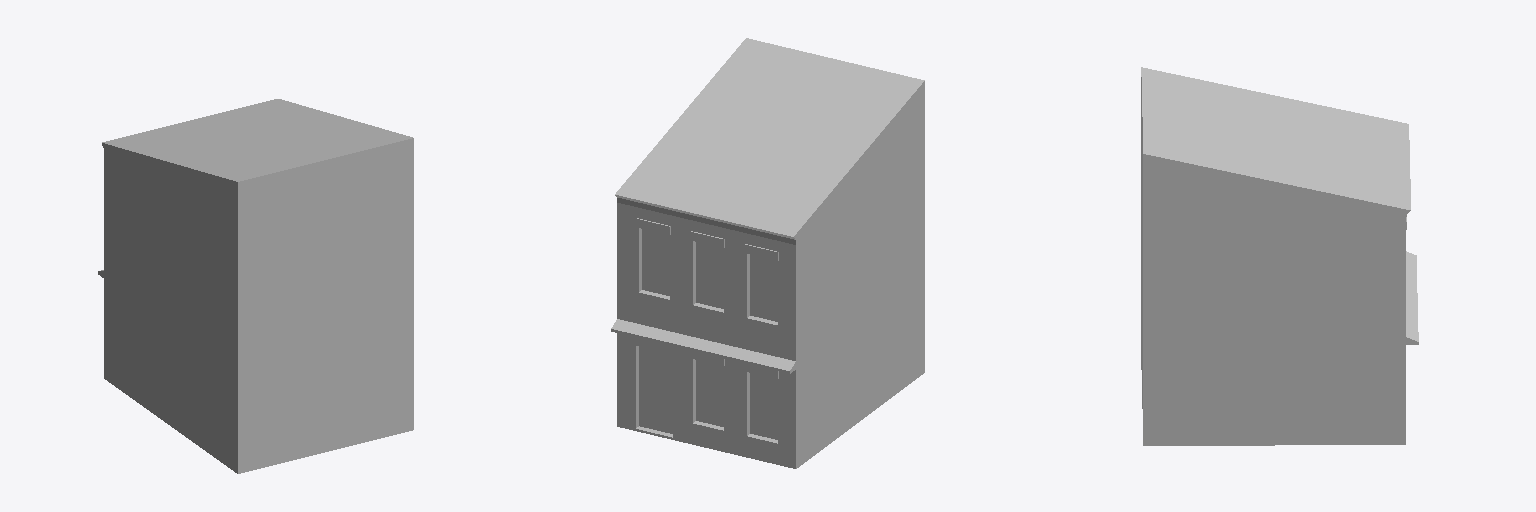
Rendered from house5.obj.
3 renders of one model, left to right at view 1: azimuth 30°, elevation 25°; view 2: azimuth 150°, elevation 25°; view 3: azimuth 270°, elevation 25°, orthographic.
Visible parts, largest first — view 1: pasted__pasted__houseSmall_null_ pasted__group9 group12; view 2: pasted__pasted__houseSmall_null_ pasted__group9 group12; view 3: pasted__pasted__houseSmall_null_ pasted__group9 group12.
Boxes of the visible parts, x1,y1,x2,y2 form: pasted__pasted__houseSmall_null_ pasted__group9 group12: [98, 99, 413, 473]; pasted__pasted__houseSmall_null_ pasted__group9 group12: [611, 38, 924, 468]; pasted__pasted__houseSmall_null_ pasted__group9 group12: [1141, 67, 1418, 445].
Bounding box in the file's own units: 32.77 × 50.77 × 43.69.